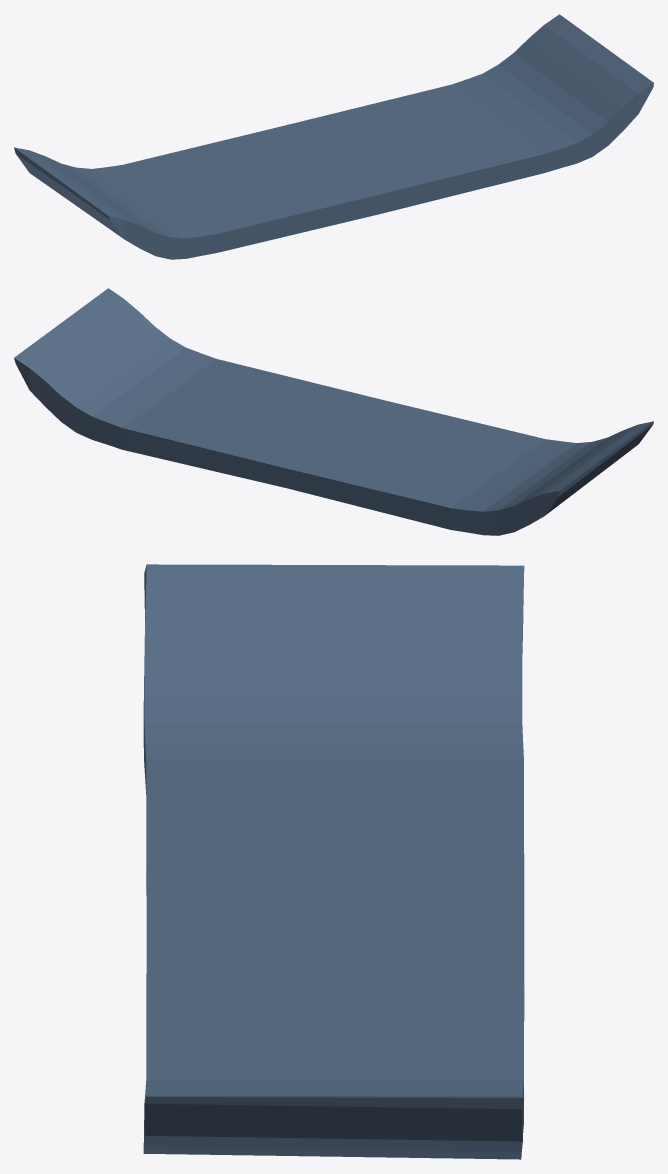
File: SnoubordMesh.fbx
The picture shows the model from 3 angles, top to bottom: view 1: azimuth 30°, elevation 25°; view 2: azimuth 150°, elevation 25°; view 3: azimuth 270°, elevation 25°; orthographic projection. The views are drawn at different scales.
Visible parts, largest first — view 1: Куб; view 2: Куб; view 3: Куб.
Boxes of the visible parts, x1,y1,x2,y2 form: Куб: (14, 14, 653, 259); Куб: (14, 288, 653, 535); Куб: (143, 564, 524, 1159).
Bounding box in the file's own units: 101 × 38.69 × 334.
